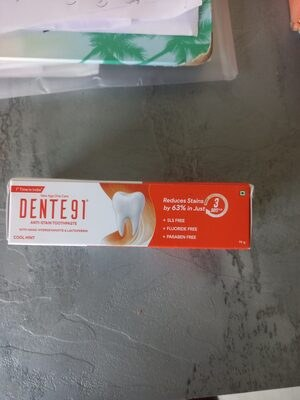Anti Stain Toothpaste: (15, 20, 285, 380)
